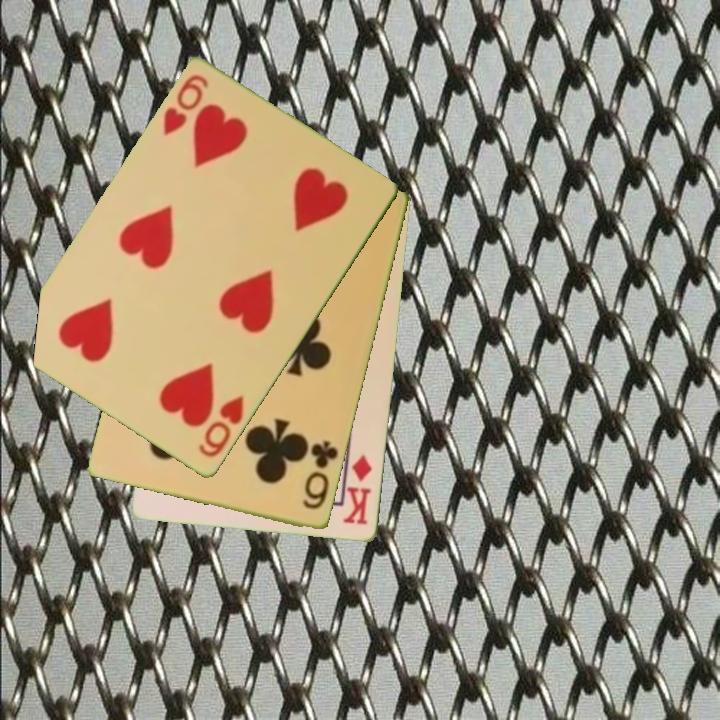6c: (300, 437, 342, 513)
6h: (159, 71, 212, 140), (195, 392, 247, 461)
Kd: (341, 451, 375, 528)
